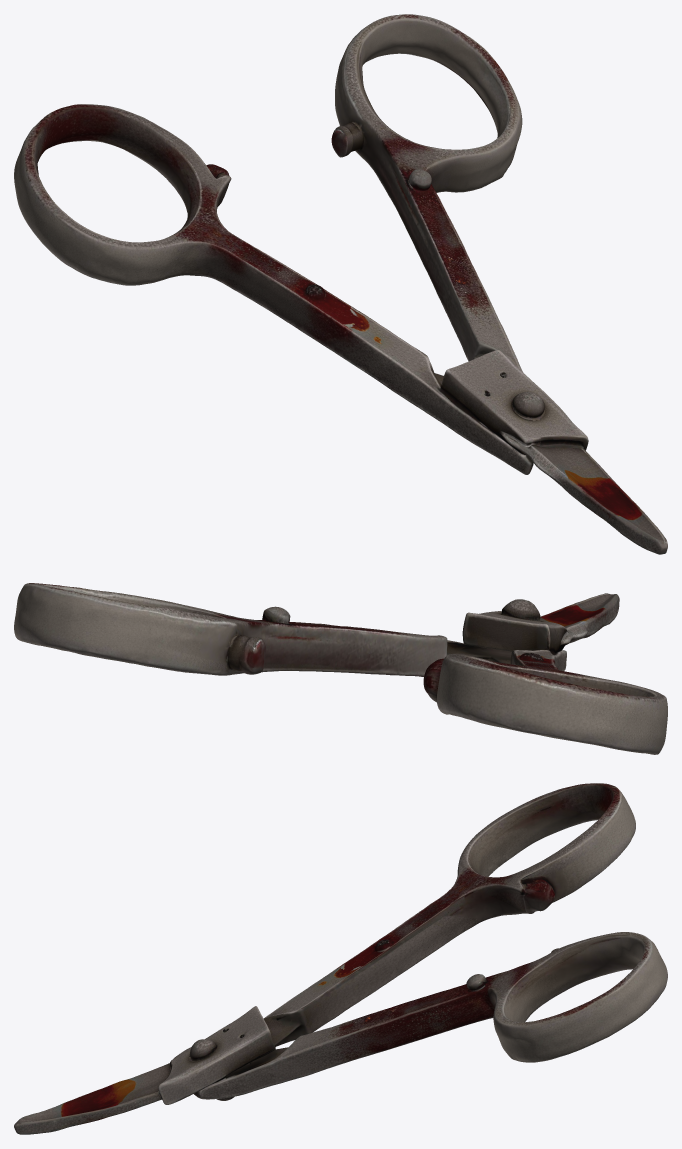
The picture shows the model from 3 angles, top to bottom: view 1: azimuth 30°, elevation 25°; view 2: azimuth 150°, elevation 25°; view 3: azimuth 270°, elevation 25°; orthographic projection. The views are drawn at different scales.
Visible parts, largest first — view 1: tripo_node_2a189baf-7014-45ec-99e8-afcee88579ba; view 2: tripo_node_2a189baf-7014-45ec-99e8-afcee88579ba; view 3: tripo_node_2a189baf-7014-45ec-99e8-afcee88579ba.
Part boxes in pixels (bbox=[...]): tripo_node_2a189baf-7014-45ec-99e8-afcee88579ba: bbox=[14, 14, 667, 554]; tripo_node_2a189baf-7014-45ec-99e8-afcee88579ba: bbox=[14, 583, 667, 754]; tripo_node_2a189baf-7014-45ec-99e8-afcee88579ba: bbox=[14, 783, 667, 1134].
Size of the model in its own units: 0.7645 by 0.3871 by 0.9999.
1 material, 1 textured.
